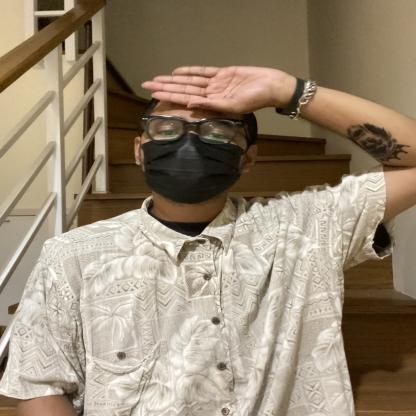Sick: (90, 44, 308, 155)
